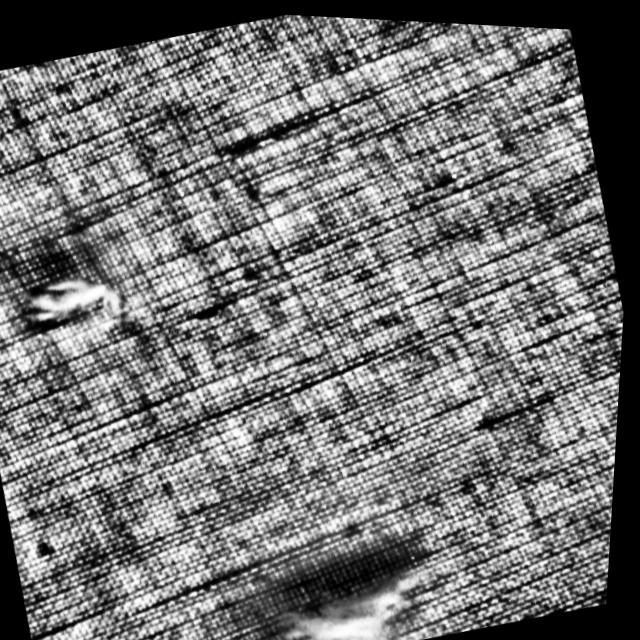Stitch: (246, 545, 438, 640), (10, 253, 140, 353)
